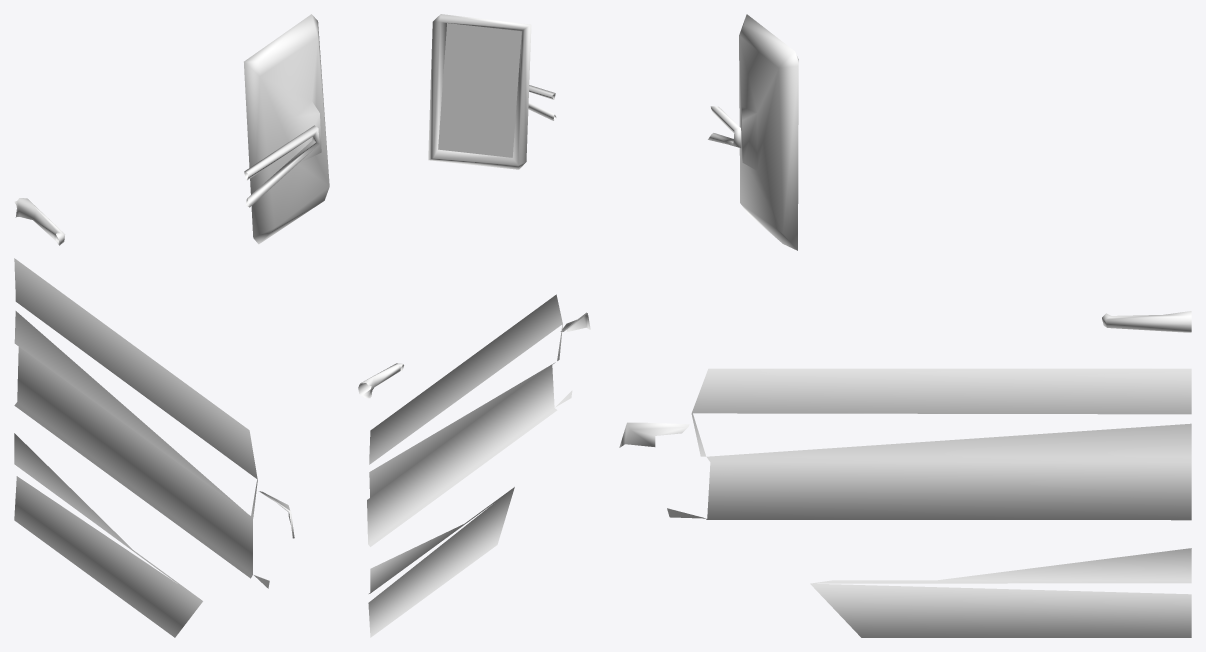
The picture shows the model from 3 angles, left to right: view 1: azimuth 30°, elevation 25°; view 2: azimuth 150°, elevation 25°; view 3: azimuth 270°, elevation 25°; orthographic projection. The views are drawn at different scales.
Bounding box in the file's own units: 0.1981 × 0.9927 × 0.8057.
1 material, 1 textured.
